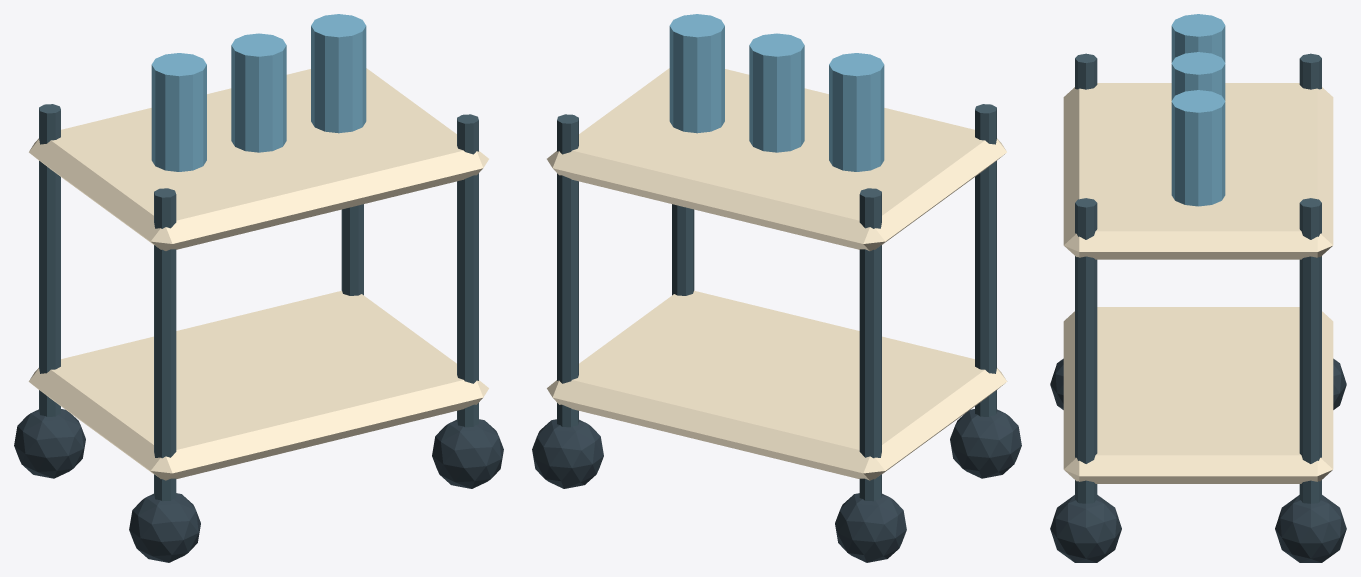
Rendered from medical-cart.glb.
The picture shows the model from 3 angles, left to right: view 1: azimuth 30°, elevation 25°; view 2: azimuth 150°, elevation 25°; view 3: azimuth 270°, elevation 25°; orthographic projection. The views are drawn at different scales.
Visible parts, largest first — view 1: cart-tray, cart-tray.001, medicine-bottle.001, medicine-bottle.002, medicine-bottle, cart-post, cart-post.002, cart-post.001, caster, caster.001, caster.002, cart-post.003; view 2: cart-tray, cart-tray.001, medicine-bottle.001, medicine-bottle.002, medicine-bottle, cart-post.001, cart-post.003, cart-post, caster, caster.001, caster.003, cart-post.002; view 3: cart-tray, cart-tray.001, medicine-bottle.002, cart-post.002, cart-post.003, caster.002, caster.003, medicine-bottle, medicine-bottle.001, cart-post, cart-post.001, caster (+1 smaller).
Boxes of the visible parts, box(x1,y1,x2,y2) form: cart-tray: box(28, 290, 488, 480); cart-tray.001: box(29, 68, 488, 250); medicine-bottle.001: box(231, 33, 286, 152); medicine-bottle.002: box(311, 14, 366, 133); medicine-bottle: box(151, 53, 206, 171); cart-post: box(154, 188, 176, 501); cart-post.002: box(457, 114, 478, 427); cart-post.001: box(39, 104, 60, 416); caster: box(129, 493, 200, 562); caster.001: box(14, 409, 85, 478); caster.002: box(432, 419, 503, 488); cart-post.003: box(341, 204, 363, 295); cart-tray: box(547, 290, 1007, 480); cart-tray.001: box(547, 68, 1006, 250); medicine-bottle.001: box(749, 33, 804, 152); medicine-bottle.002: box(669, 14, 724, 133); medicine-bottle: box(829, 53, 884, 171); cart-post.001: box(859, 188, 881, 501); cart-post.003: box(557, 114, 578, 427); cart-post: box(975, 104, 996, 416); caster: box(950, 409, 1021, 478); caster.001: box(835, 493, 906, 562); caster.003: box(532, 419, 603, 488); cart-post.002: box(672, 204, 694, 295); cart-tray: box(1063, 307, 1333, 483); cart-tray.001: box(1063, 83, 1333, 259); medicine-bottle.002: box(1171, 90, 1225, 206); cart-post.002: box(1075, 198, 1097, 503); cart-post.003: box(1299, 198, 1321, 503); caster.002: box(1050, 495, 1121, 562); caster.003: box(1275, 495, 1346, 562); medicine-bottle: box(1171, 14, 1225, 62); medicine-bottle.001: box(1171, 52, 1225, 100); cart-post: box(1075, 53, 1097, 89); cart-post.001: box(1299, 53, 1321, 89); caster: box(1050, 358, 1063, 409).
Bounding box in the file's own units: 0.9122 × 1.04 × 0.66.
